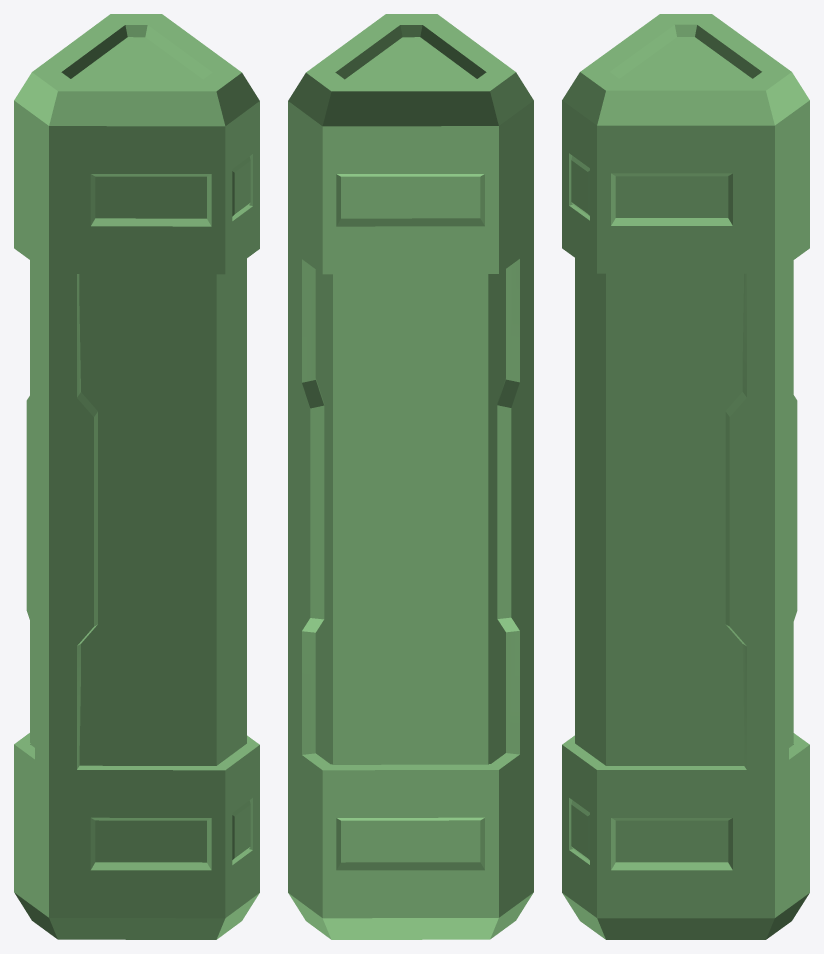
Rendered from energy 6.fbx.
3 views of the same model, side by side, from view 1: azimuth 30°, elevation 25°; view 2: azimuth 150°, elevation 25°; view 3: azimuth 270°, elevation 25° (orthographic).
Parts seen in each view (by area): view 1: Object003; view 2: Object003; view 3: Object003.
Part boxes in pixels (bbox=[...]): Object003: bbox=[14, 14, 259, 939]; Object003: bbox=[288, 14, 533, 939]; Object003: bbox=[562, 14, 809, 939].
Bounding box in the file's own units: 1225 × 5400 × 1428.
